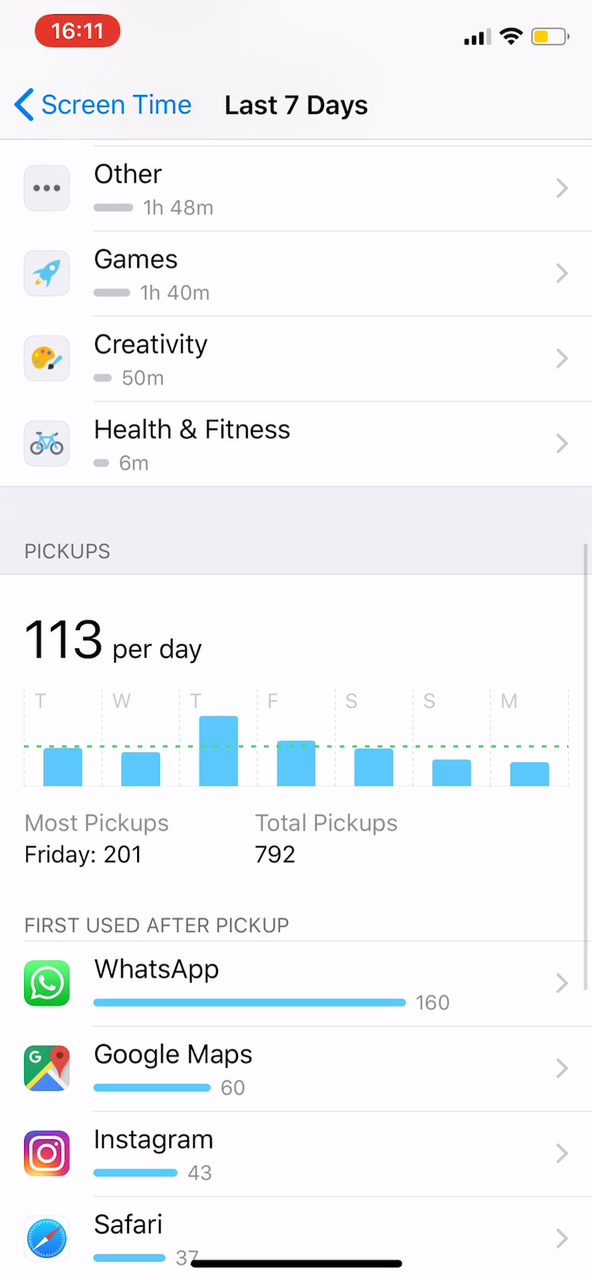pick_app: (14, 950, 489, 1017), (15, 1032, 301, 1099), (23, 1117, 256, 1186)
pick_over: (14, 802, 451, 878)
week: (211, 83, 388, 132)
